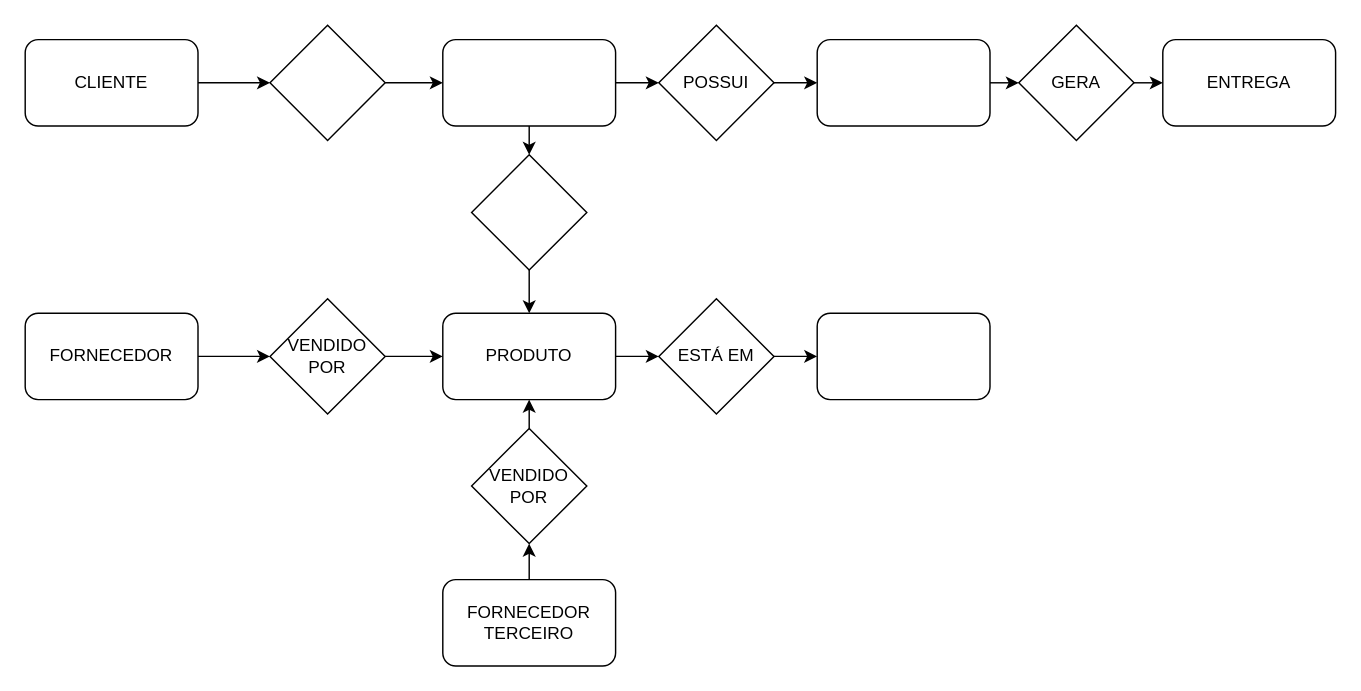
The diagram is 1361 pixels wide and 691 high, and some of its shapes have lost their labels. Each missing label, with the centre of its shape:
"CONTEM" belongs at pixel 528 211.
"ESTOQUE" belongs at pixel 903 356.
"FAZ" belongs at pixel 327 82.
"PAGAMENTO" belongs at pixel 903 82.
"PEDIDO" belongs at pixel 528 82.
